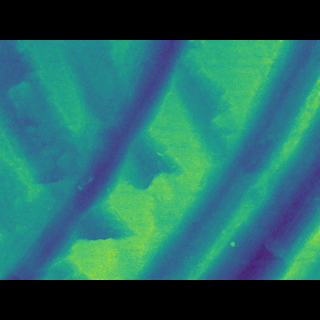Loch: (0, 70, 194, 250), (128, 69, 320, 249)
